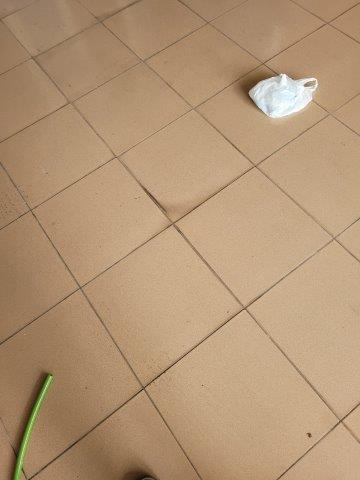plastik: (250, 74, 319, 118)
